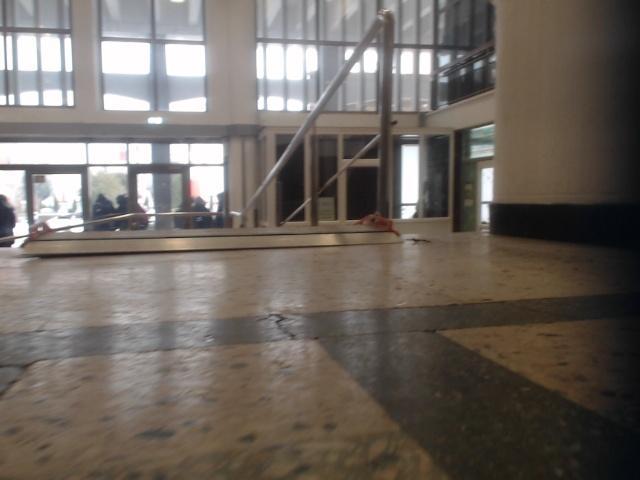rampDown: (18, 225, 402, 256)
ramps-railing: (240, 11, 394, 226), (292, 165, 343, 225)
